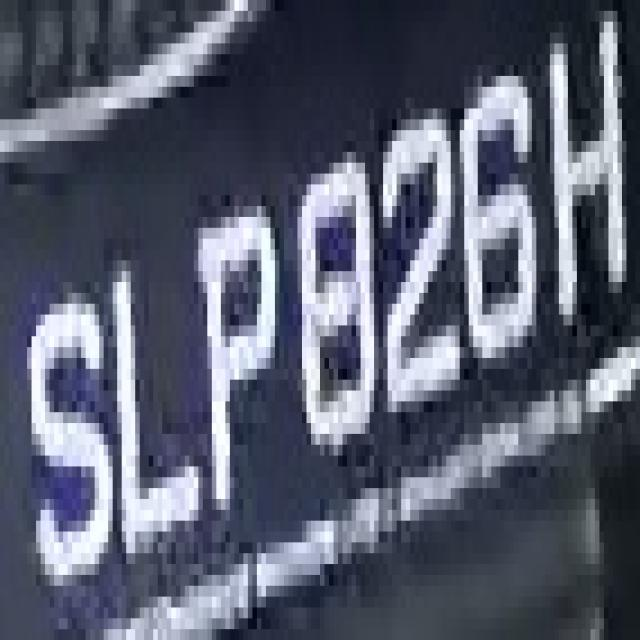2: (365, 98, 469, 423)
6: (455, 43, 541, 380)
8: (289, 130, 383, 467)
H: (532, 0, 635, 358)
L: (104, 250, 207, 564)
P: (198, 174, 280, 532)
S: (13, 271, 112, 586)
